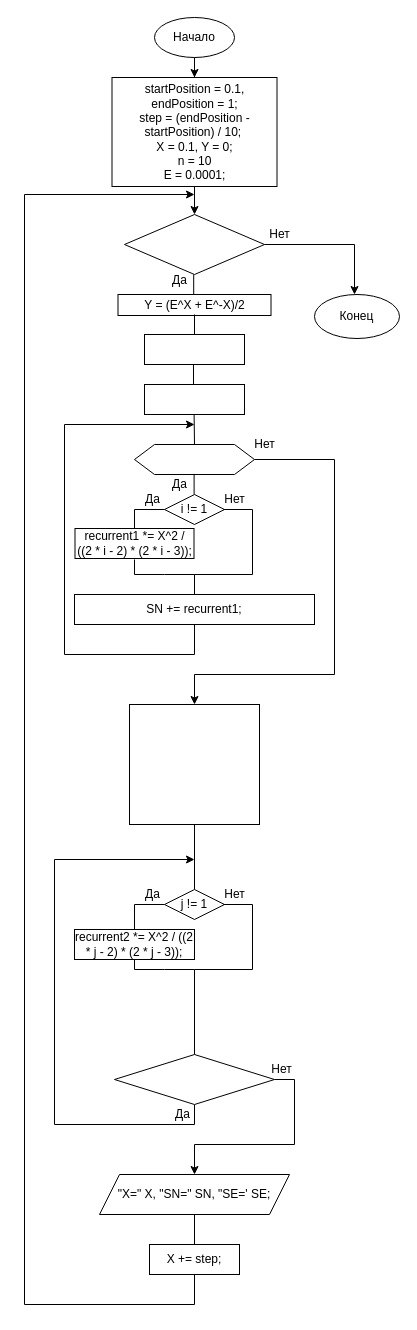
Some shapes in this 417 by 1330 pixel diagram are drawn without their labels. The centre of each missing label's shape, as x and y in pixels:
"i = 1 to n" goes at (194,459).
"j = 1; recurrent2 = 1; SE = 0;" goes at (194,764).
"recurrent1 = 1;" goes at (194,349).
"SN = 0;" goes at (194,399).
"X <= endPosition" goes at (194,244).
"Пока an > E" goes at (194,1079).
